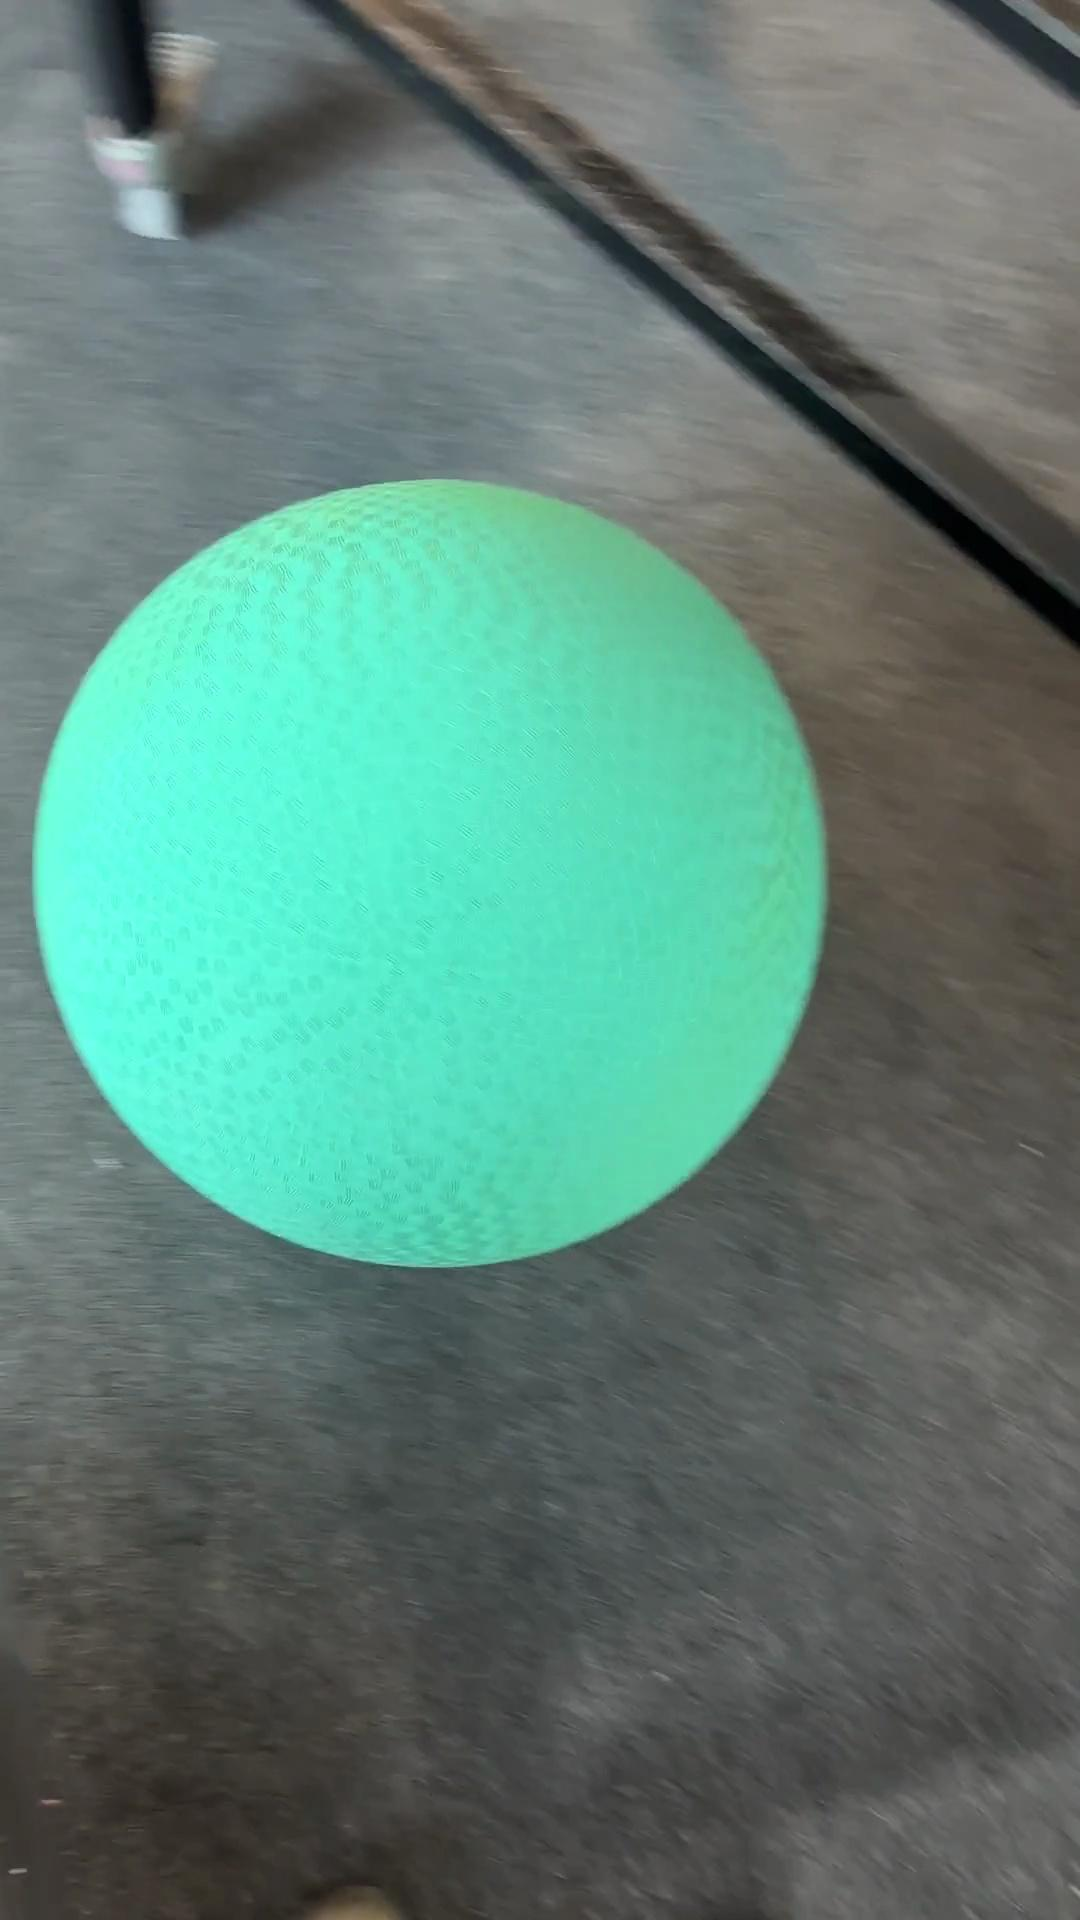ALGAE: (30, 473, 829, 1271)
